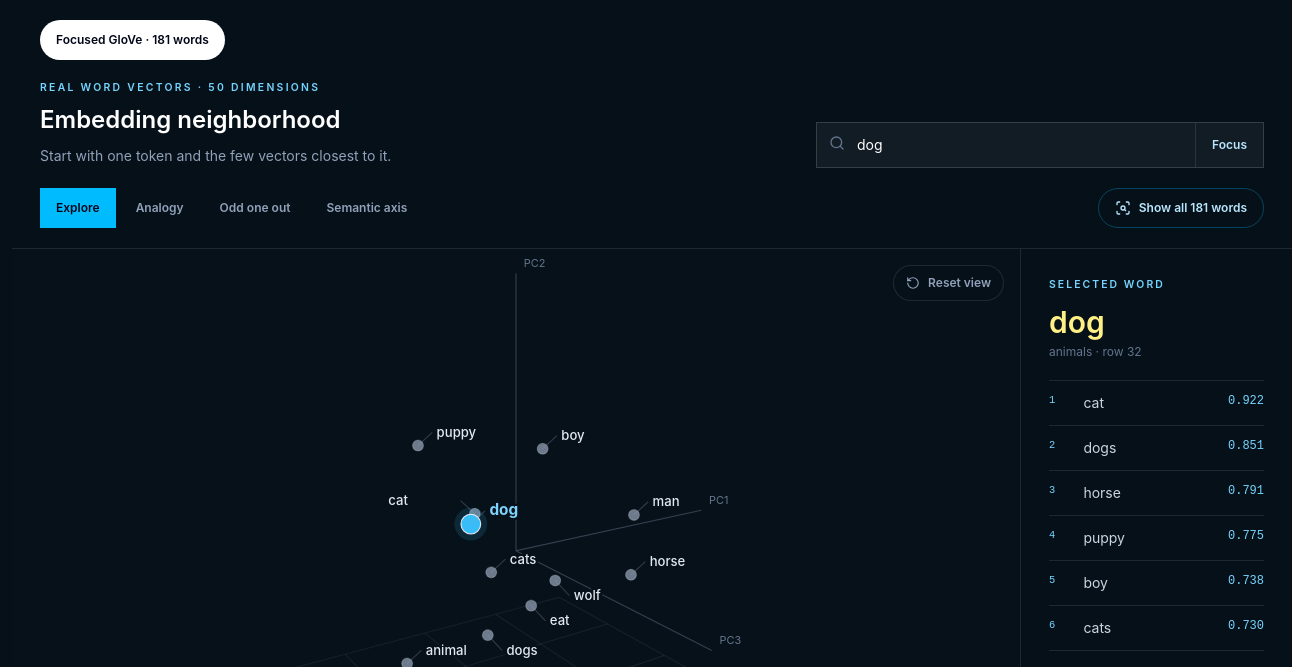
Test: WordEmbeddingExplorer › turns the same space into analogy, odd-one-out, and semantic-axis experiments
Click the tab with test id "word-mode-analogy" at (160, 208), box 120,188 -> 200,228
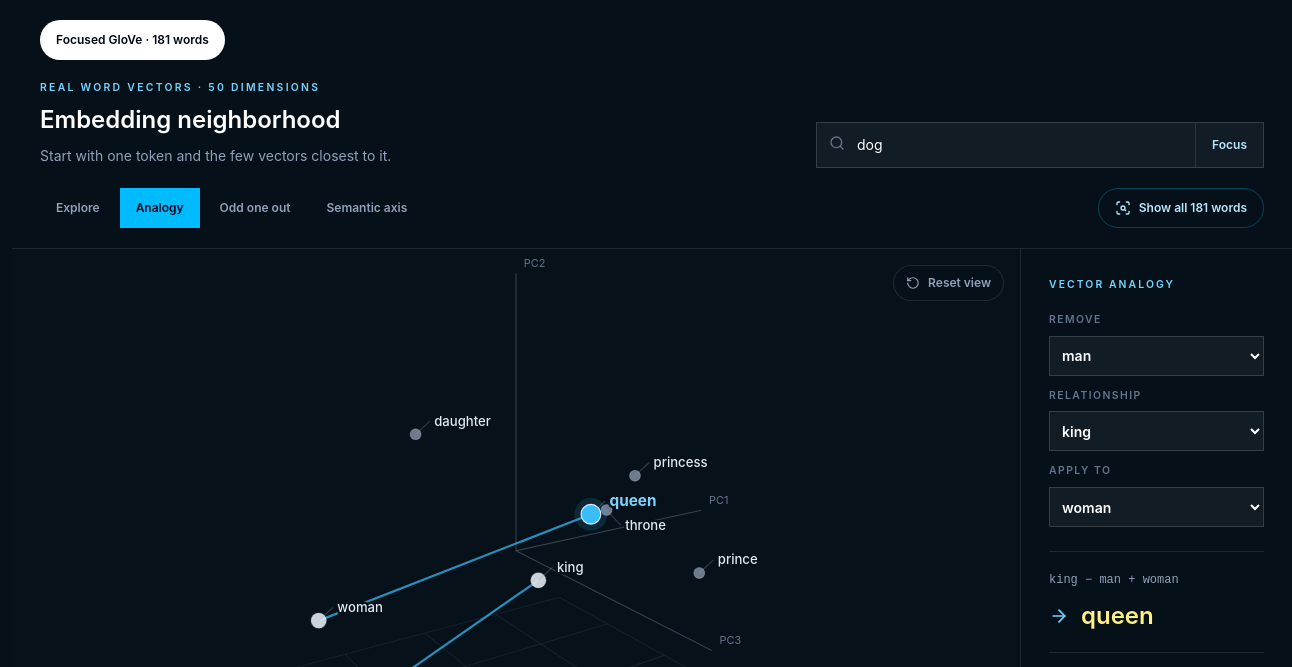
Click the tab with test id "word-mode-odd" at (255, 208), box 204,188 -> 306,228
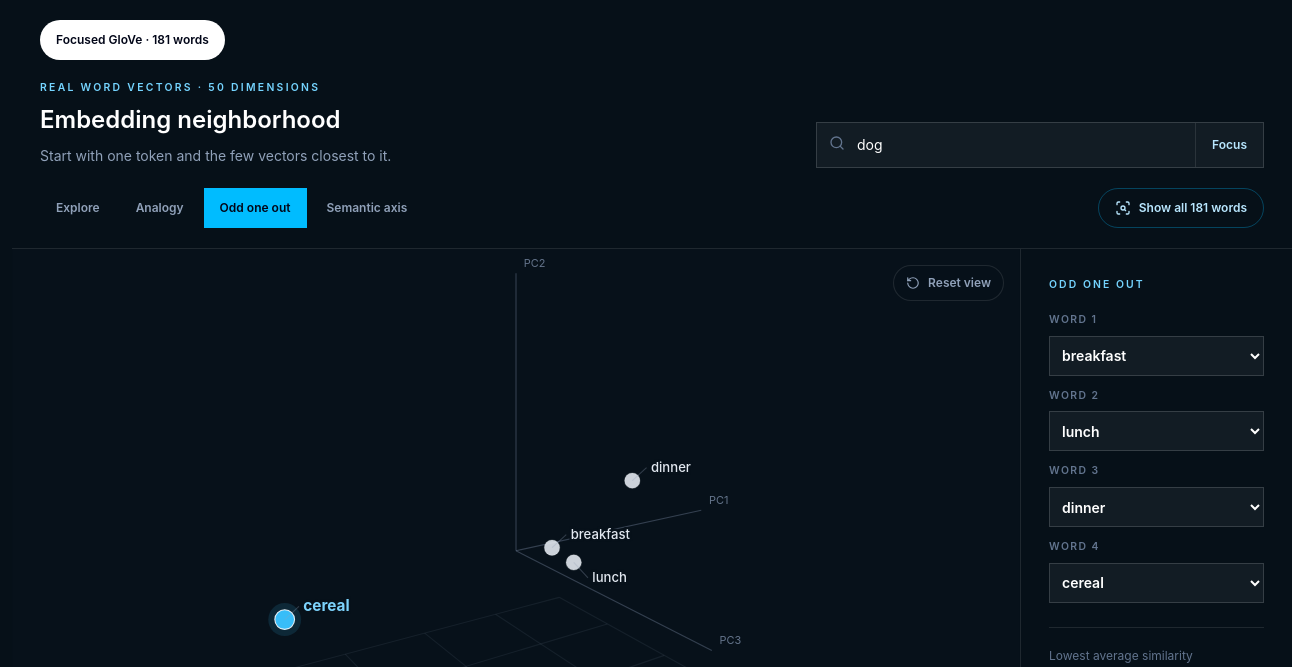
Click the tab with test id "word-mode-axis" at (367, 208), box 310,188 -> 423,228
(page scrolled)
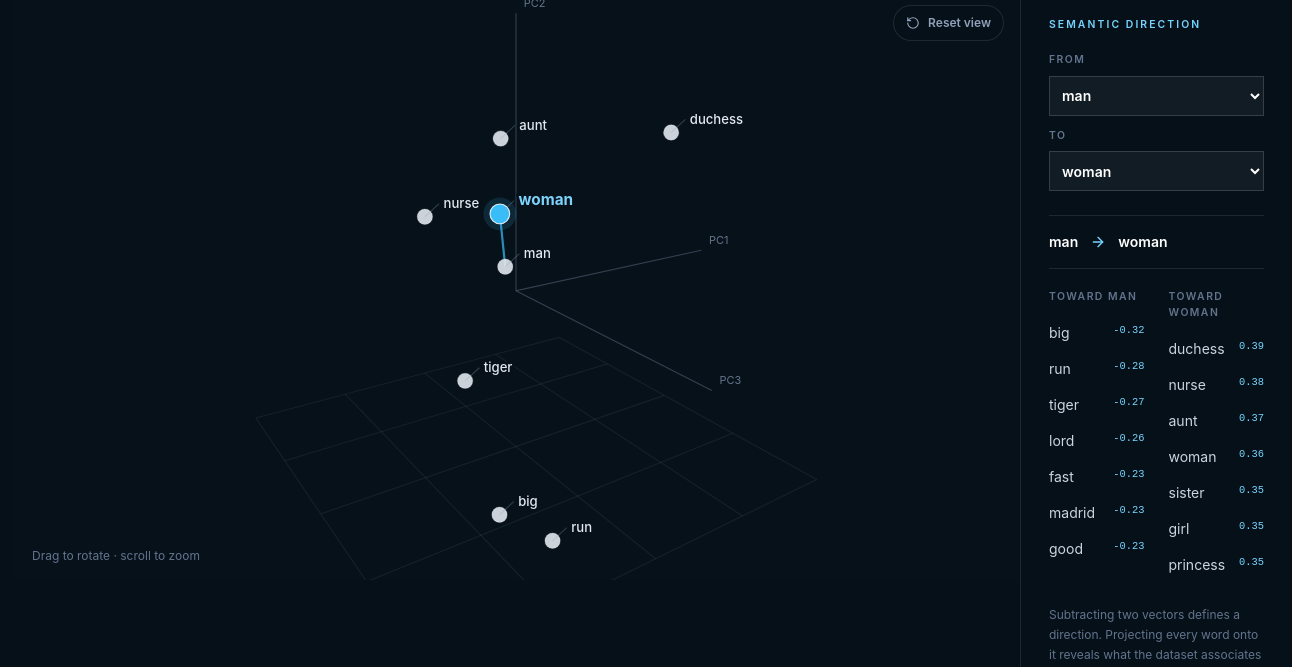
Now the element with test id "word-experiment-axis" shows "man", box 1049,233 -> 1078,250
Now the element with test id "word-experiment-axis" shows "woman", box 1118,233 -> 1168,250
